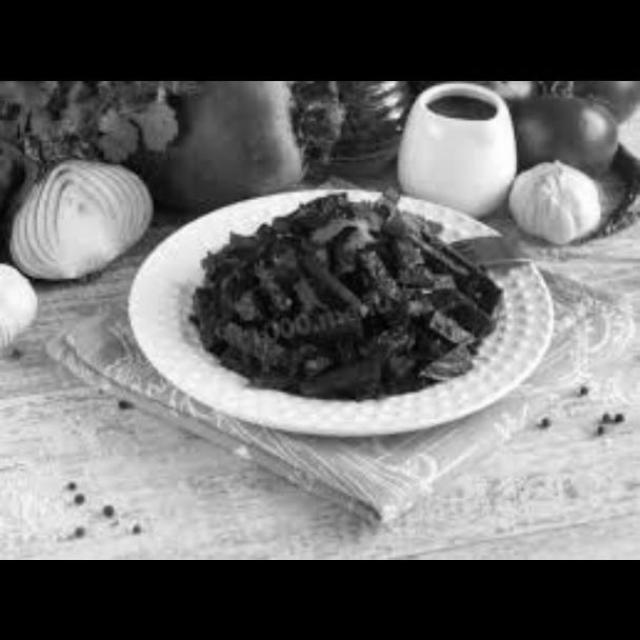garlic: (504, 148, 612, 246), (0, 231, 42, 350)
onion: (0, 130, 160, 281)
sugar beet: (187, 185, 503, 392), (164, 80, 345, 211)
tomato: (477, 80, 639, 164)
